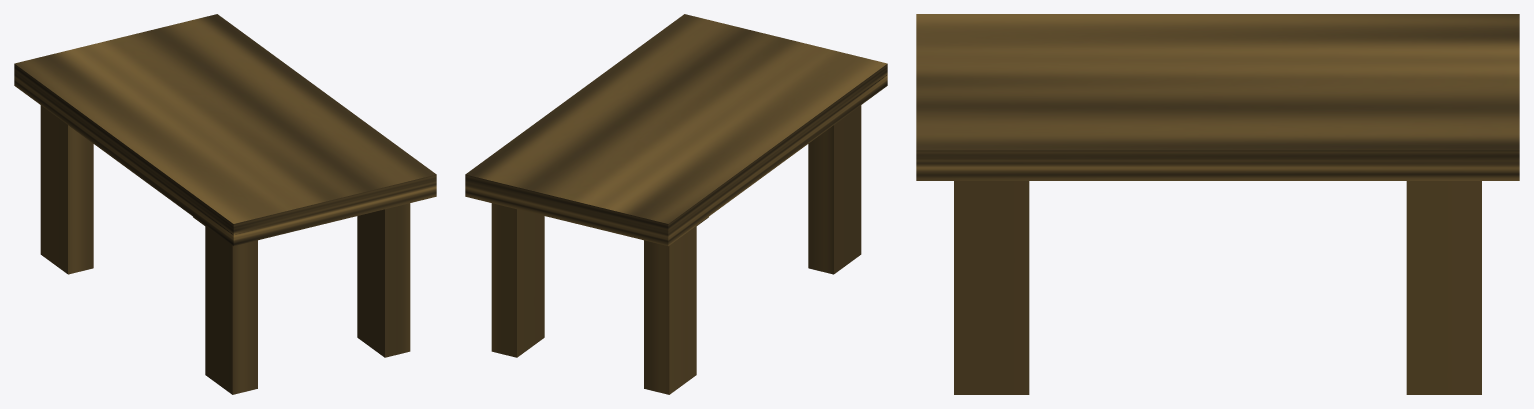
The model's file is table.fbx.
The picture shows the model from 3 angles, left to right: view 1: azimuth 30°, elevation 25°; view 2: azimuth 150°, elevation 25°; view 3: azimuth 270°, elevation 25°; orthographic projection. The views are drawn at different scales.
Visible parts, largest first — view 1: Cube; view 2: Cube; view 3: Cube.
Boxes of the visible parts, left/top/right/bottom form: Cube: left=14, top=14, right=436, bottom=394; Cube: left=465, top=14, right=887, bottom=394; Cube: left=916, top=14, right=1519, bottom=394.
Bounding box in the file's own units: 200 × 173 × 374.
